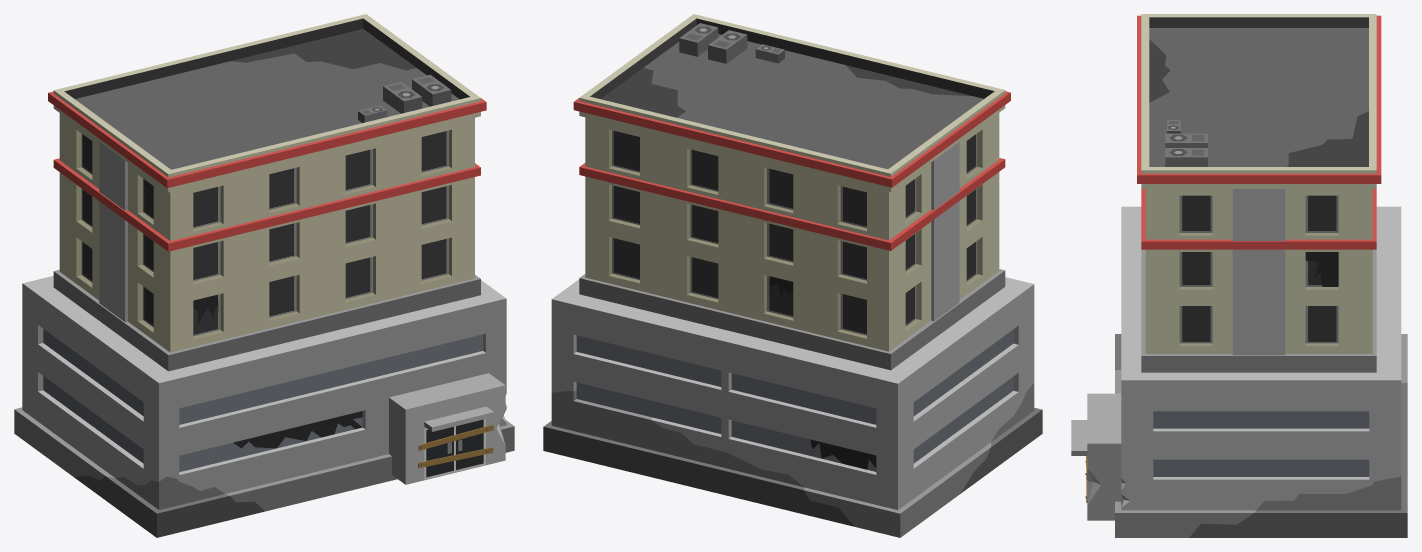
Rendered from SA_Bld_HospitalBuilding_Damaged_01.glb.
The picture shows the model from 3 angles, left to right: view 1: azimuth 30°, elevation 25°; view 2: azimuth 150°, elevation 25°; view 3: azimuth 270°, elevation 25°; orthographic projection. The views are drawn at different scales.
Visible parts, largest first — view 1: SA_Bld_HospitalBuilding_Damaged_01; view 2: SA_Bld_HospitalBuilding_Damaged_01; view 3: SA_Bld_HospitalBuilding_Damaged_01.
Part boxes in pixels (bbox=[...]): SA_Bld_HospitalBuilding_Damaged_01: bbox=[14, 14, 514, 537]; SA_Bld_HospitalBuilding_Damaged_01: bbox=[543, 14, 1042, 537]; SA_Bld_HospitalBuilding_Damaged_01: bbox=[1071, 14, 1407, 537].
Bounding box in the file's own units: 11.4 × 10.72 × 9.04.
Materials: 1 (1 with a texture image).
